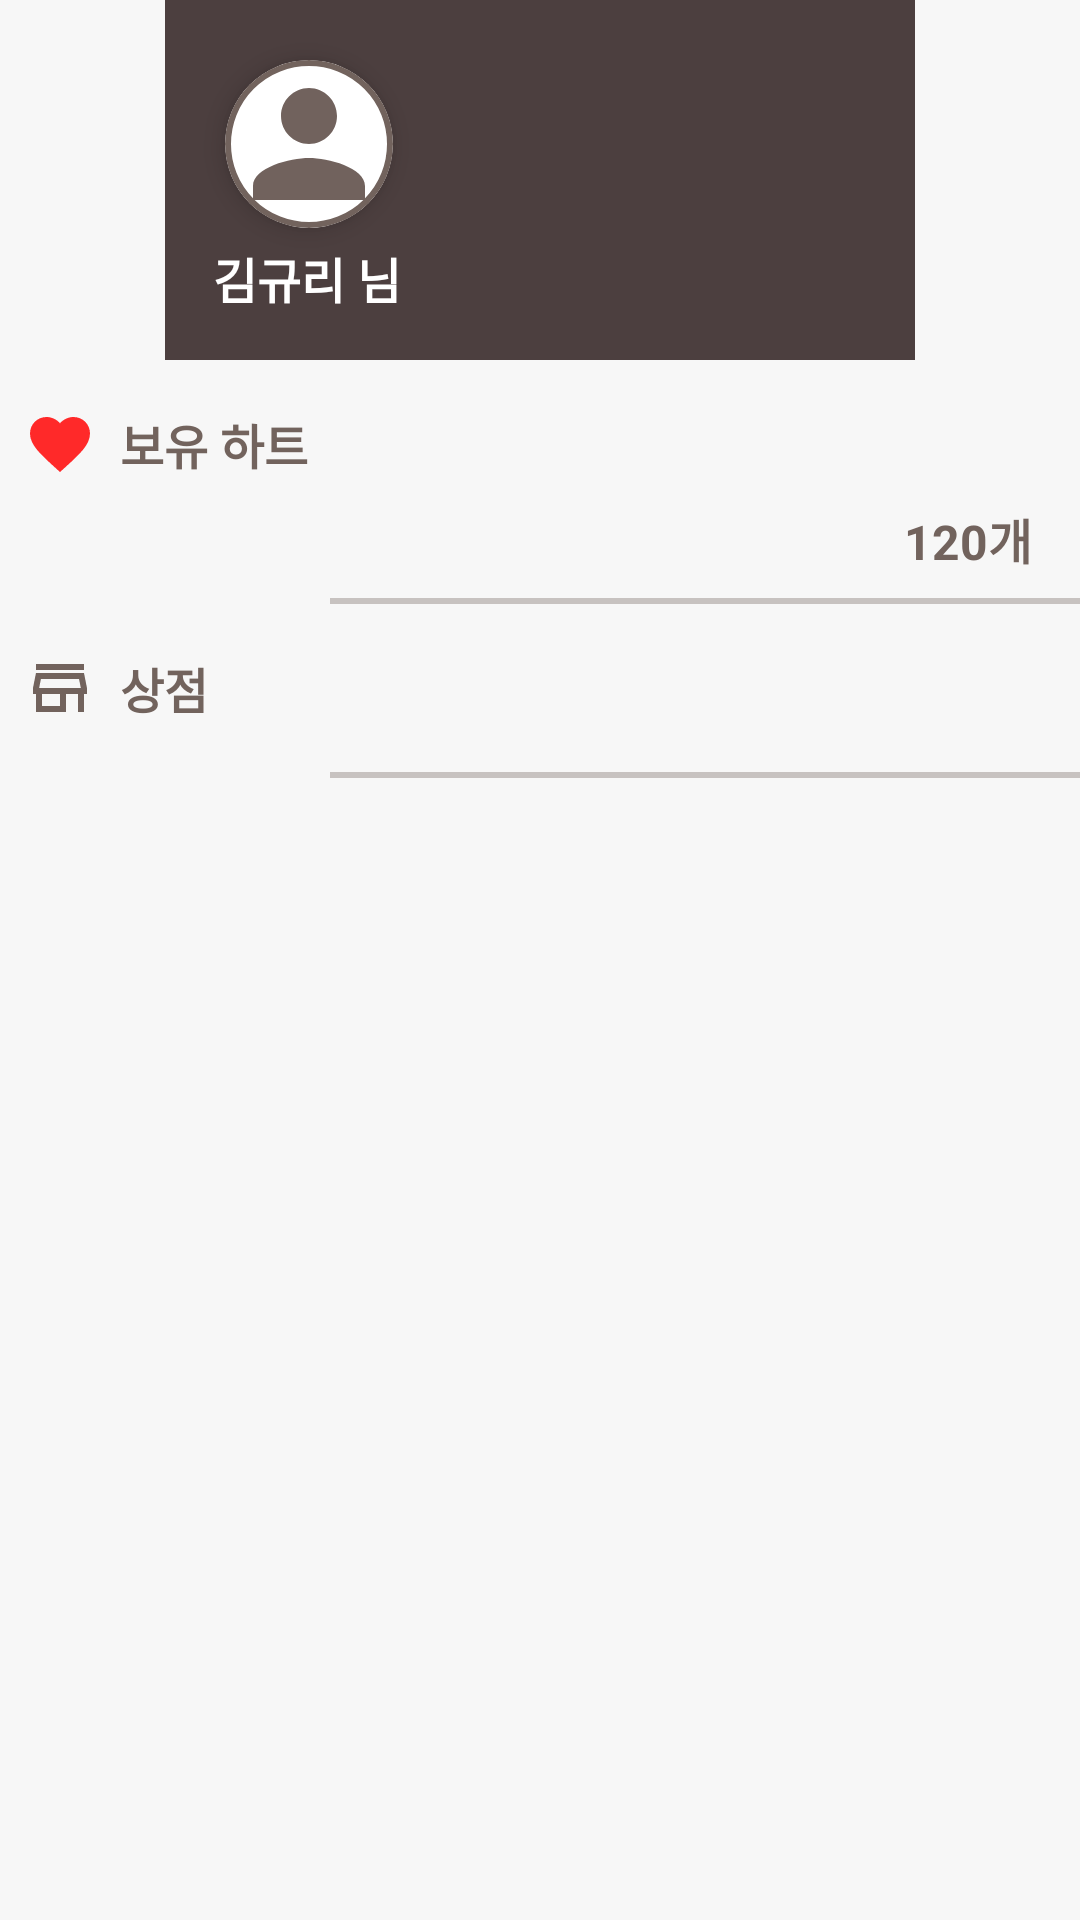

Icon bounding boxes for this 1080px×1920px phone screenshot, format {"x1": x1, "y1": y1, "x2": x2, "y2": y2}:
favorite: {"x1": 30, "y1": 417, "x2": 90, "y2": 472}
person: {"x1": 225, "y1": 60, "x2": 393, "y2": 228}
store: {"x1": 33, "y1": 664, "x2": 87, "y2": 712}
